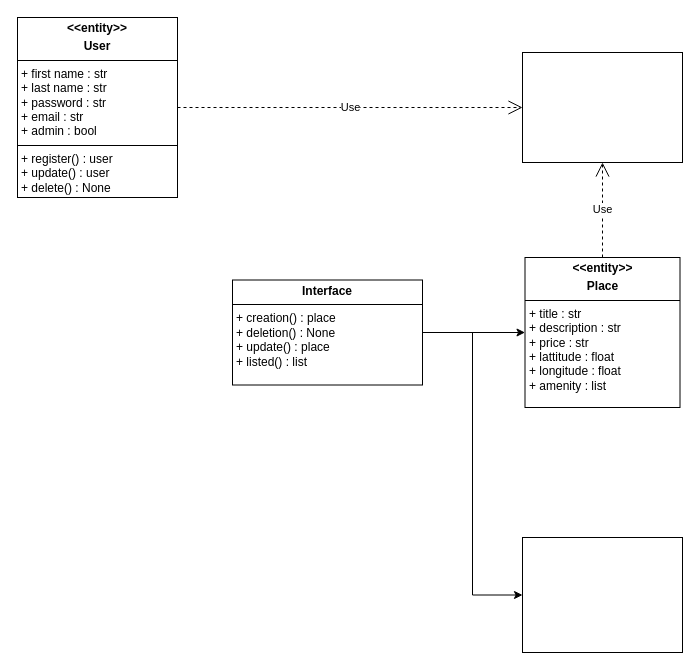
The diagram is 700 pixels wide and 670 high, and some of its shapes have lost their labels. Here are the shapes that lost their labels. From the top down, the centre of each, then its label:
At [602,107]: "<<entity>> Review + rating : int + comment : str + show() : list(str)".
At [602,594]: "<<entity>> Ameniy + Name : str + Description : str +".
